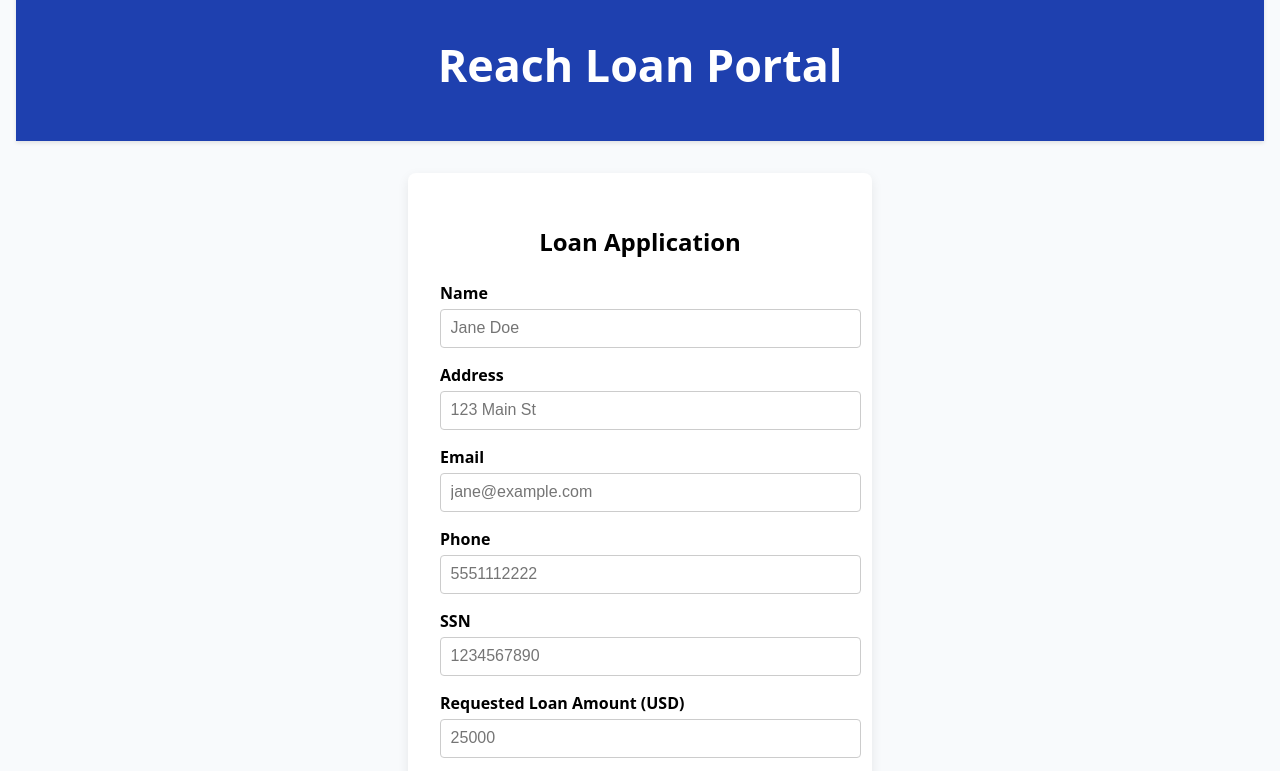
Test: LoanApplication › validates email format
Type "invalidemail" into the field with placeholder "jane@example.com" at (651, 492), box [440, 473, 861, 512]
(page scrolled)
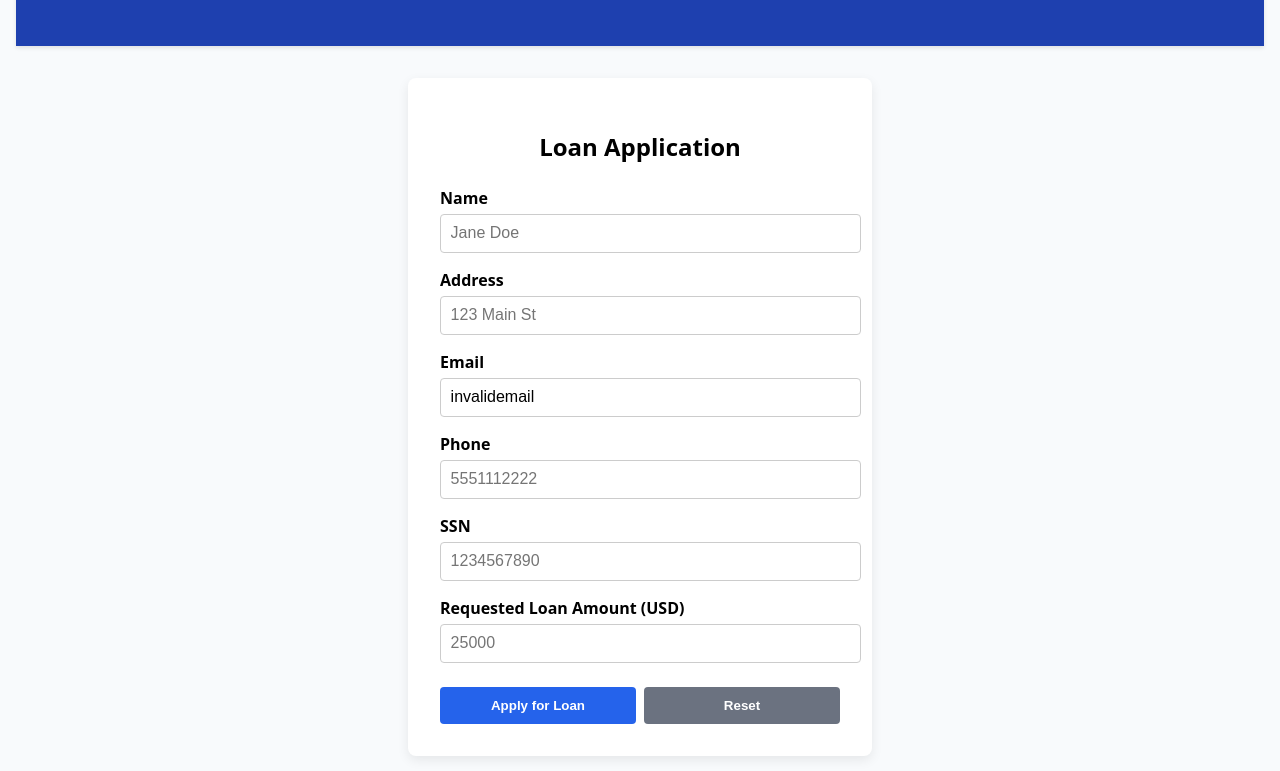
Click the button "Apply for Loan" at (538, 706), box [440, 687, 636, 724]
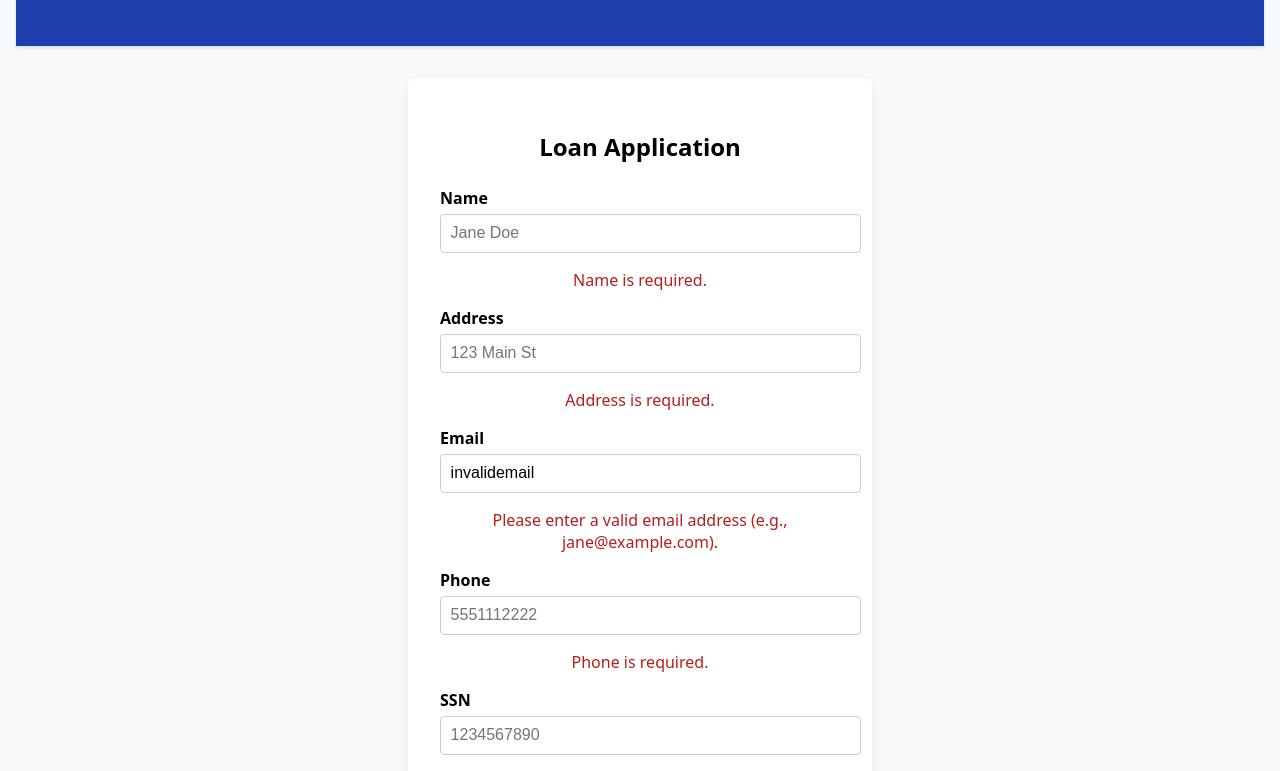
expect the text "Please enter a valid email address (e.g., jane@example.com)." is shown: met, box [492, 509, 788, 553]
